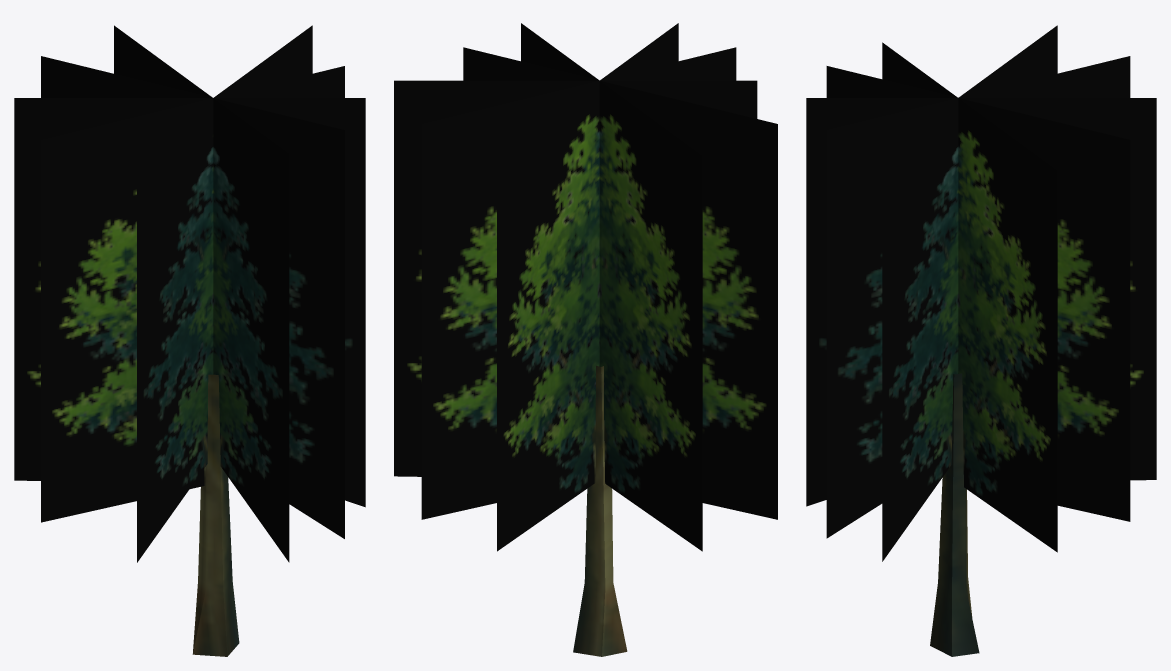
File: TREE00.glb
3 renders of one model, left to right at view 1: azimuth 30°, elevation 25°; view 2: azimuth 150°, elevation 25°; view 3: azimuth 270°, elevation 25°, orthographic. The views are drawn at different scales.
Visible parts, largest first — view 1: FRAME_ROOT; view 2: FRAME_ROOT; view 3: FRAME_ROOT.
Boxes of the visible parts, <box> form: FRAME_ROOT: <box>14,25,365,656</box>; FRAME_ROOT: <box>394,23,777,656</box>; FRAME_ROOT: <box>806,25,1156,656</box>.
Bounding box in the file's own units: 18.29 × 29.85 × 17.31.
1 material, 1 textured.
